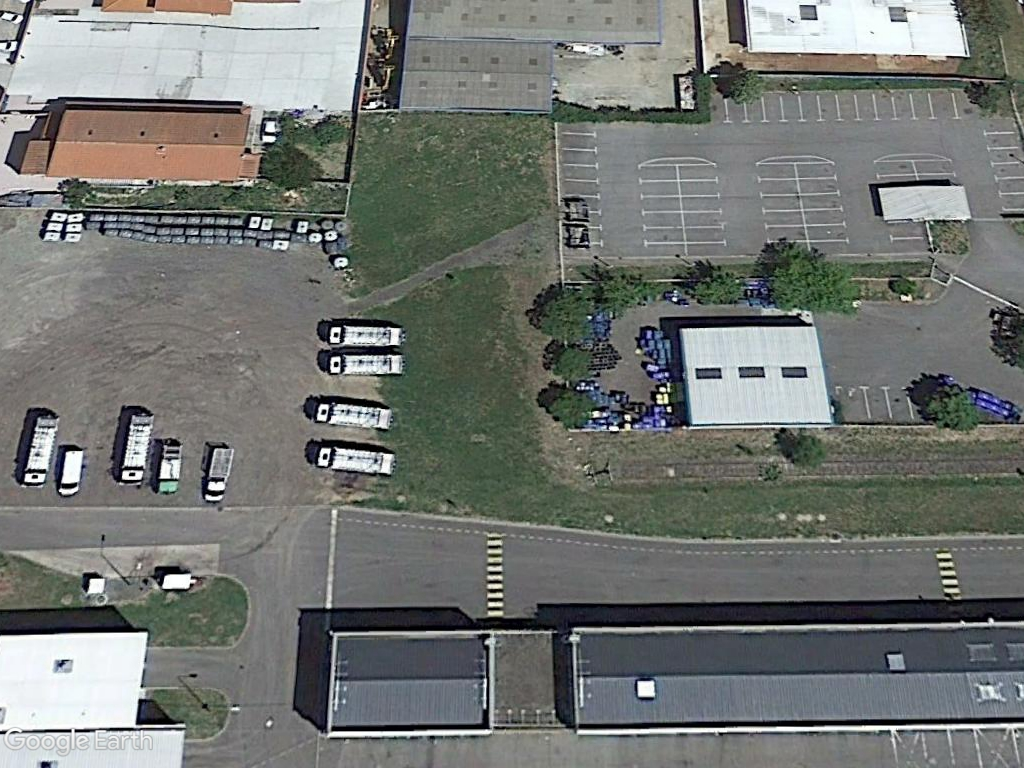truck: (117, 406, 158, 491), (311, 439, 400, 478), (22, 408, 60, 491), (310, 396, 397, 432), (324, 319, 409, 350), (323, 350, 413, 379), (200, 439, 237, 508)
van: (52, 444, 87, 501)
